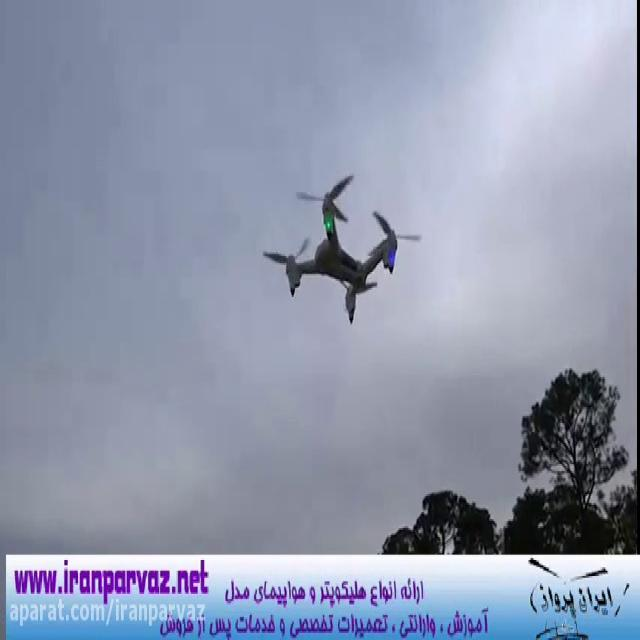drone: (257, 169, 424, 329)
